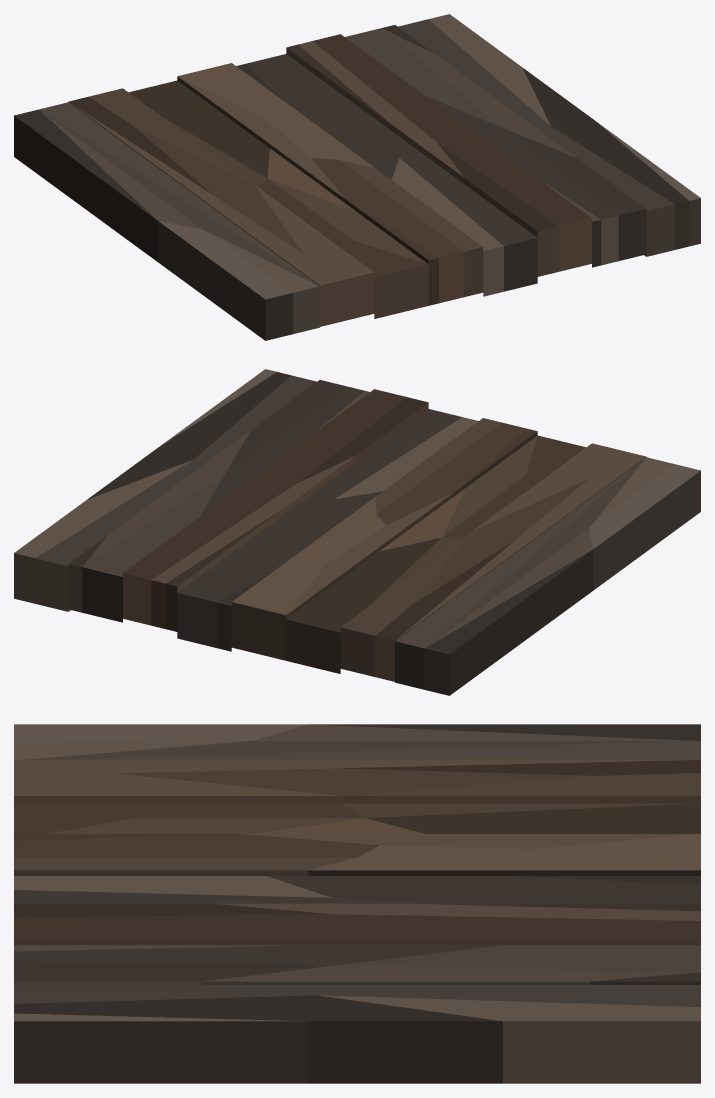
Rendered from Floor_WoodA.fbx.
The picture shows the model from 3 angles, top to bottom: view 1: azimuth 30°, elevation 25°; view 2: azimuth 150°, elevation 25°; view 3: azimuth 270°, elevation 25°; orthographic projection. The views are drawn at different scales.
Parts seen in each view (by area): view 1: Floor_WoodA; view 2: Floor_WoodA; view 3: Floor_WoodA.
Boxes of the visible parts, x1,y1,x2,y2 form: Floor_WoodA: [14, 14, 700, 340]; Floor_WoodA: [14, 369, 700, 695]; Floor_WoodA: [14, 724, 700, 1083].
Bounding box in the file's own units: 250 × 28.56 × 250.
